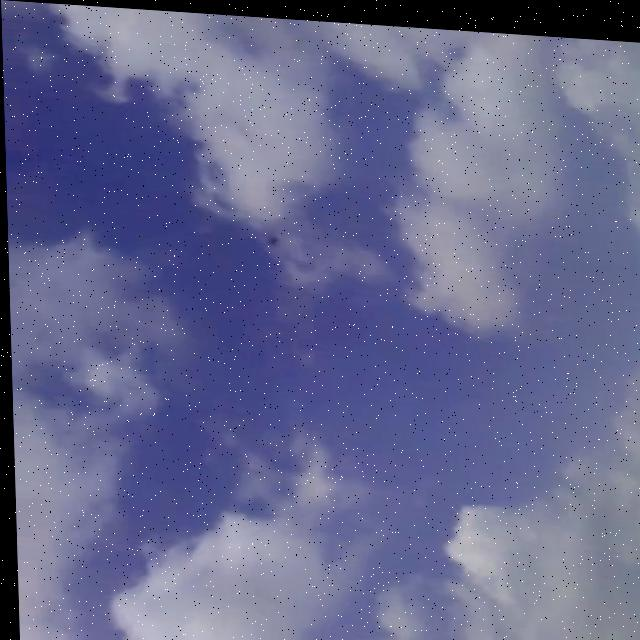drone: (258, 229, 276, 243)
